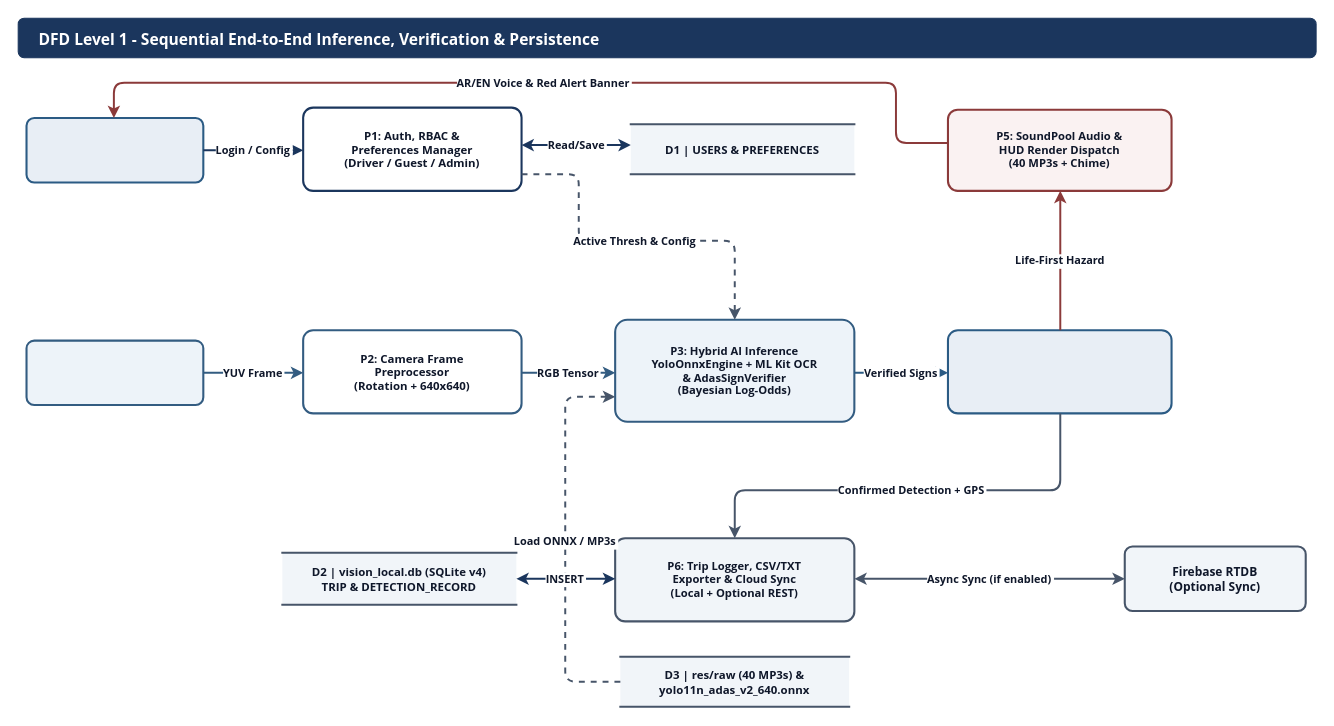
Image size: 1334x726. Some labels were removed from this diagram. Each missing label, with the centre of its shape:
CameraX + GPS Sensor Stream: (x=114, y=372)
Driver / Admin (UI & Controls): (x=114, y=149)
P4: Temporal Tracker & Priority Evaluator (2-of-3 Frames + Cooldown): (x=1059, y=371)
